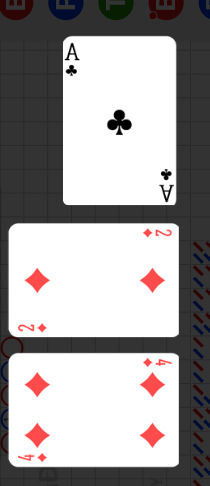2D: (141, 227, 174, 239), (17, 322, 49, 334)
AC: (65, 41, 82, 79)
